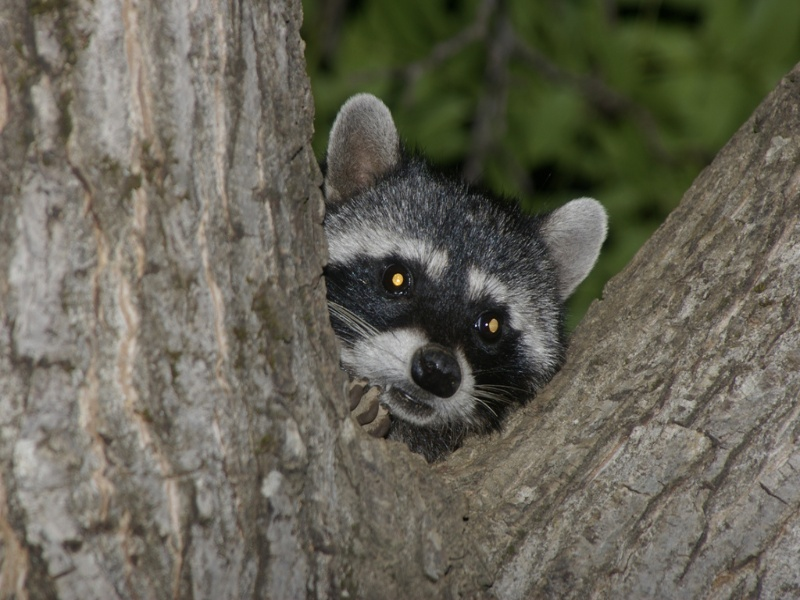raccoon: (307, 92, 614, 462)
